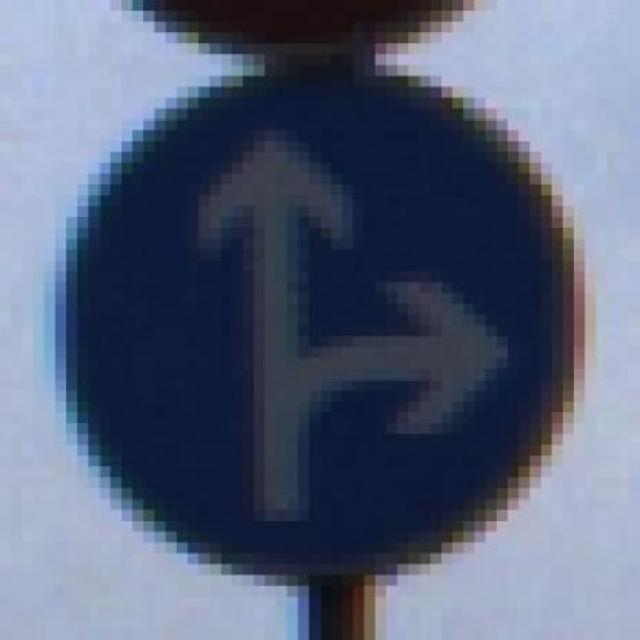Go Straight or Turn Right: (44, 75, 607, 597)
